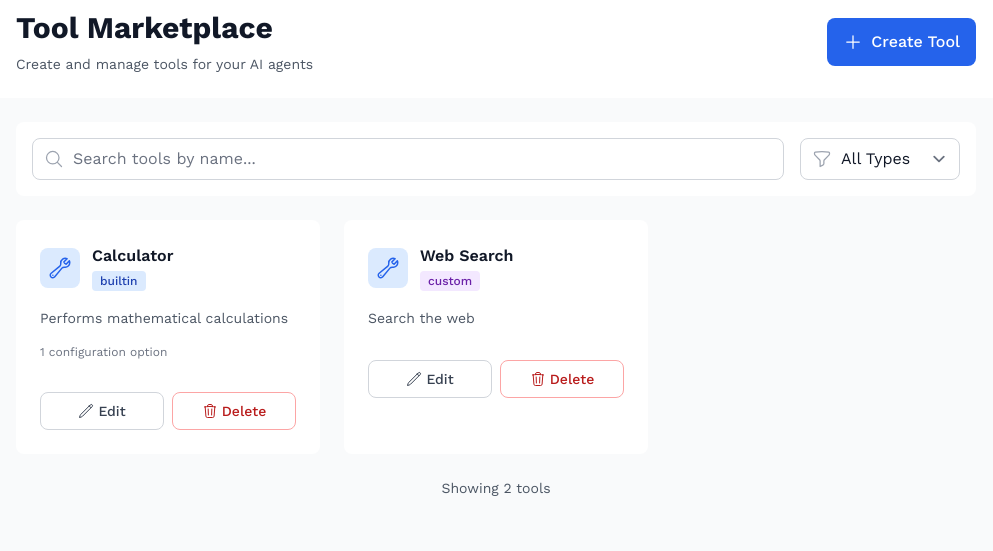
ToolMarketplace › Type filtering › displays active type filter badge
Select "Custom" in the dropdown at (880, 159), box 800,138 -> 960,180
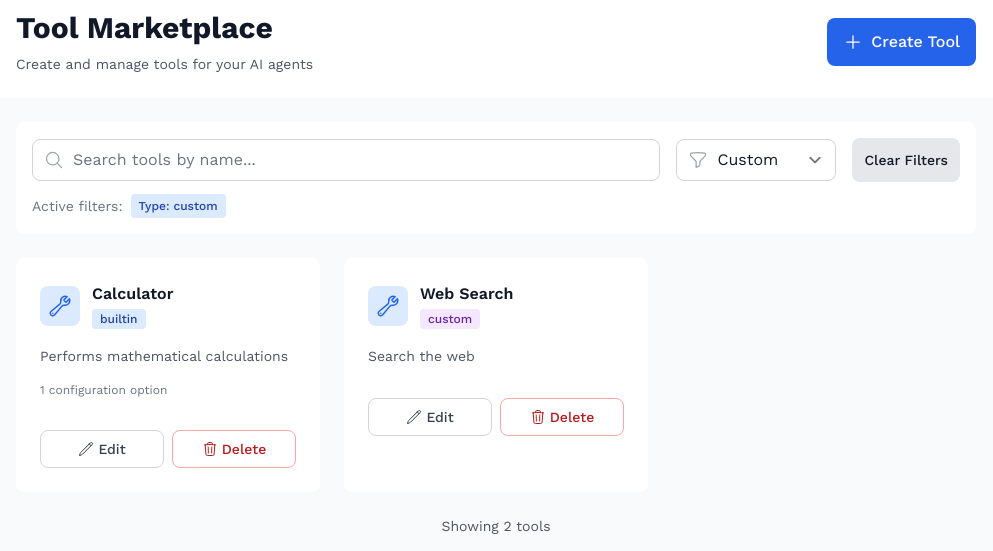
Expected: the text "Type: custom" is shown, 130,194 -> 226,218
